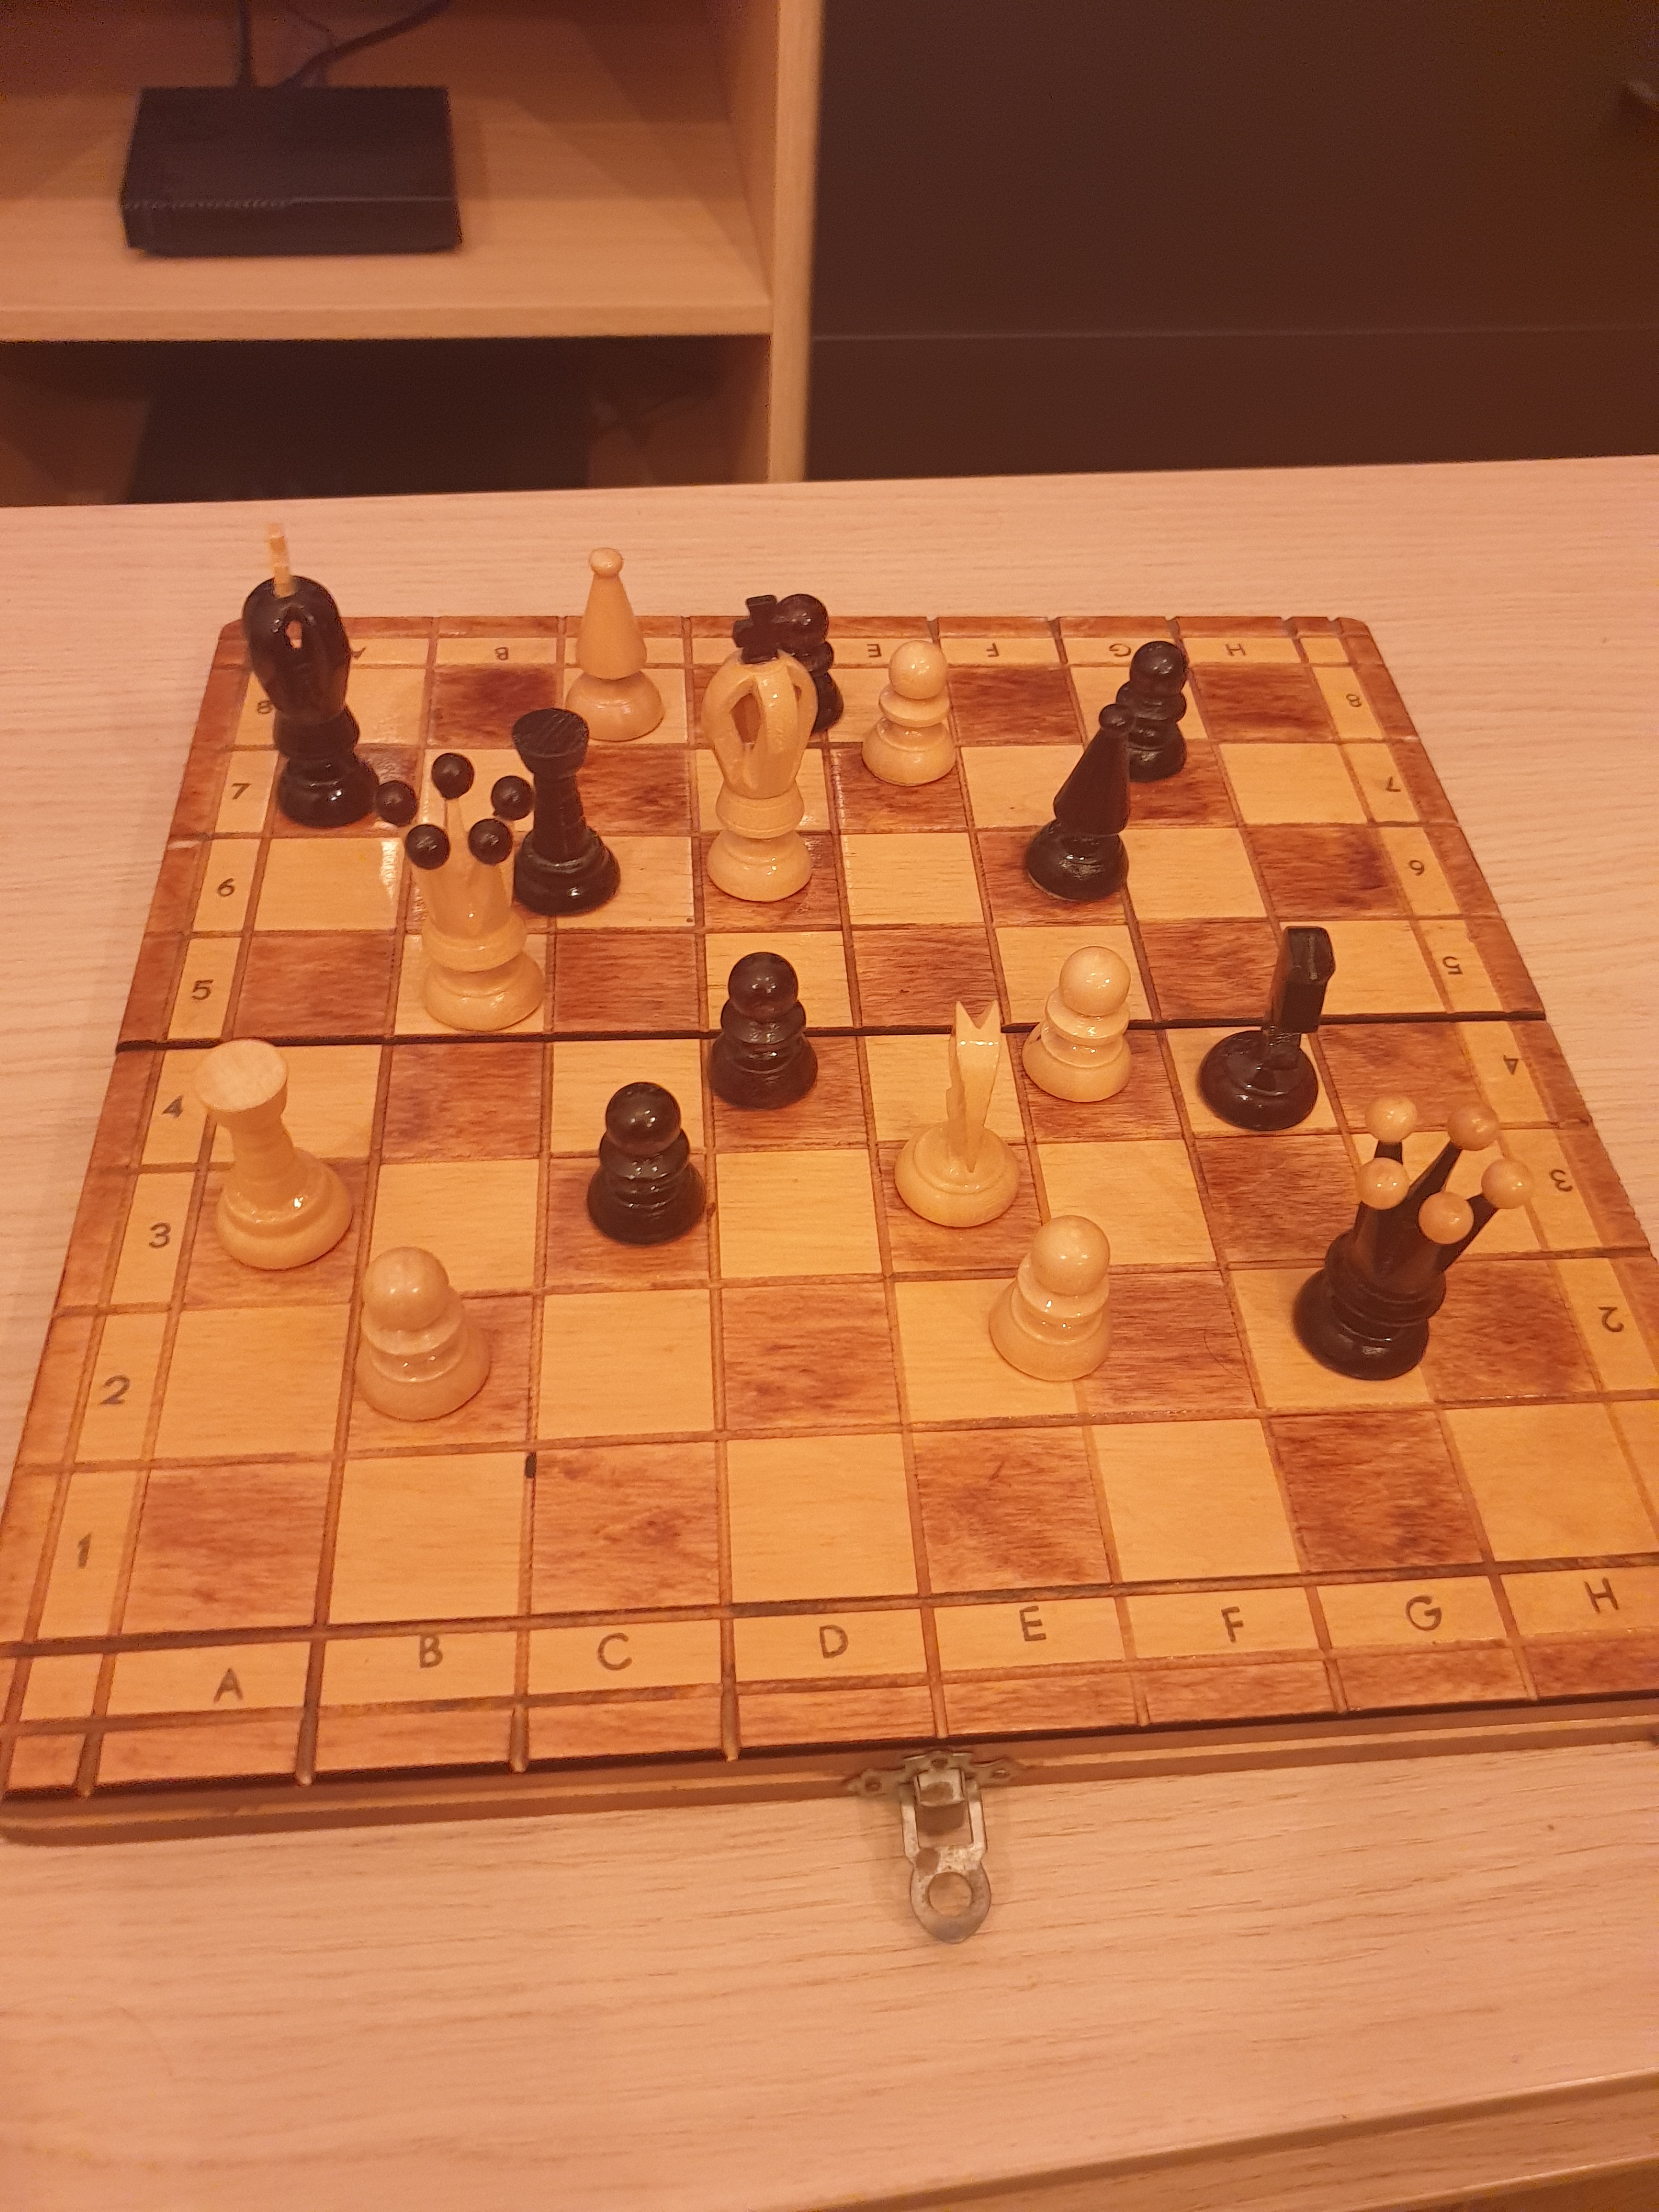bbishop: (1016, 691, 1145, 920)
bking: (225, 516, 389, 838)
bknight: (1183, 914, 1349, 1146)
bpawn: (575, 1069, 718, 1254), (694, 941, 824, 1123), (739, 573, 857, 759), (1079, 627, 1202, 792)
bqueen: (1286, 1083, 1537, 1393)
brook: (491, 702, 634, 923)
wbishop: (552, 529, 676, 766)
wking: (681, 589, 835, 916)
wknight: (889, 982, 1035, 1240)
wpawn: (333, 1230, 500, 1437), (972, 1204, 1129, 1402), (1007, 939, 1145, 1113), (847, 631, 972, 808)
wqueen: (368, 744, 579, 1040)
wrook: (186, 1026, 359, 1284)
